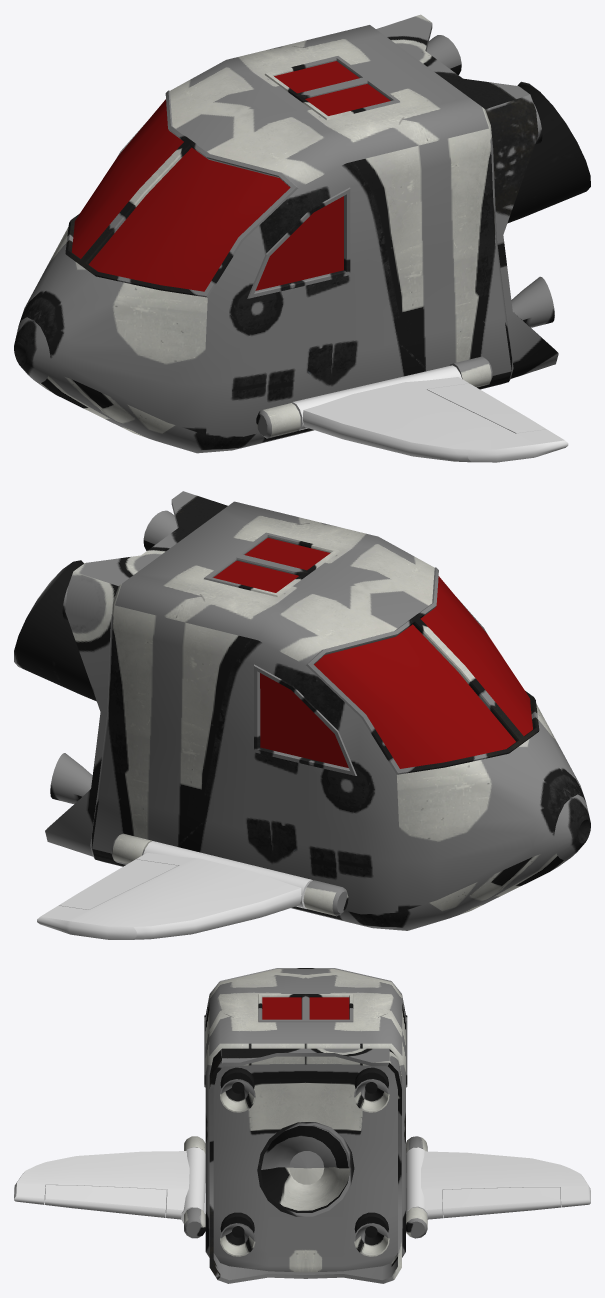
Rendered from small_shuttle 1.FBX.
3 views of the same model, one above another, from view 1: azimuth 30°, elevation 25°; view 2: azimuth 150°, elevation 25°; view 3: azimuth 270°, elevation 25° (orthographic). The views are drawn at different scales.
Visible parts, largest first — view 1: Object006, Object013, small_shuttle_left_wing; view 2: Object006, Object013, small_shuttle_right_wing; view 3: Object006, small_shuttle_left_wing, small_shuttle_right_wing, Object013.
Part boxes in pixels (<box>): Object006: <box>14,14,590,453</box>; Object013: <box>72,61,390,291</box>; small_shuttle_left_wing: <box>291,365,568,462</box>; Object006: <box>14,491,590,930</box>; Object013: <box>213,538,532,768</box>; small_shuttle_right_wing: <box>37,841,312,939</box>; Object006: <box>184,968,427,1283</box>; small_shuttle_left_wing: <box>14,1147,205,1223</box>; small_shuttle_right_wing: <box>406,1147,590,1219</box>; Object013: <box>262,997,349,1019</box>.
Size of the model in its own units: 122 by 62.55 by 144.
